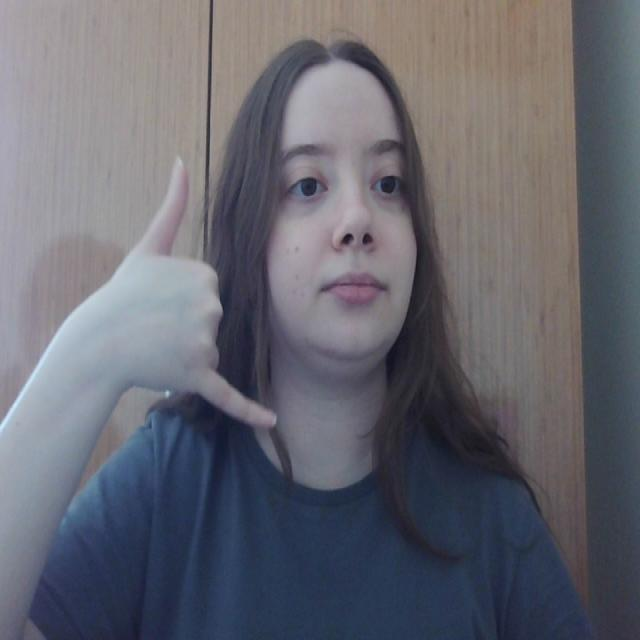Telefon: (137, 150, 278, 441)
